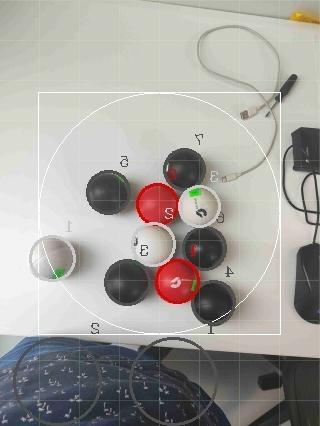Pelota blanca: (197, 23, 284, 89), (29, 233, 79, 283), (130, 220, 177, 267), (178, 182, 222, 227)
Pelota negra: (103, 257, 151, 307), (191, 278, 238, 325), (85, 169, 132, 216), (183, 225, 228, 272), (162, 148, 207, 190)
Pelota roja: (154, 257, 204, 304), (135, 180, 180, 224)
